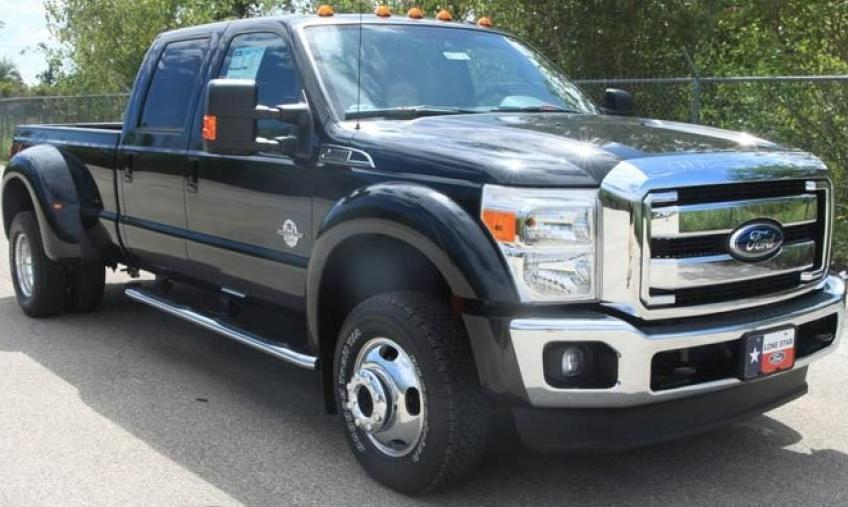front_view: (474, 148, 830, 415)
headlight: (463, 169, 606, 318)
side_glass: (123, 31, 314, 166)
